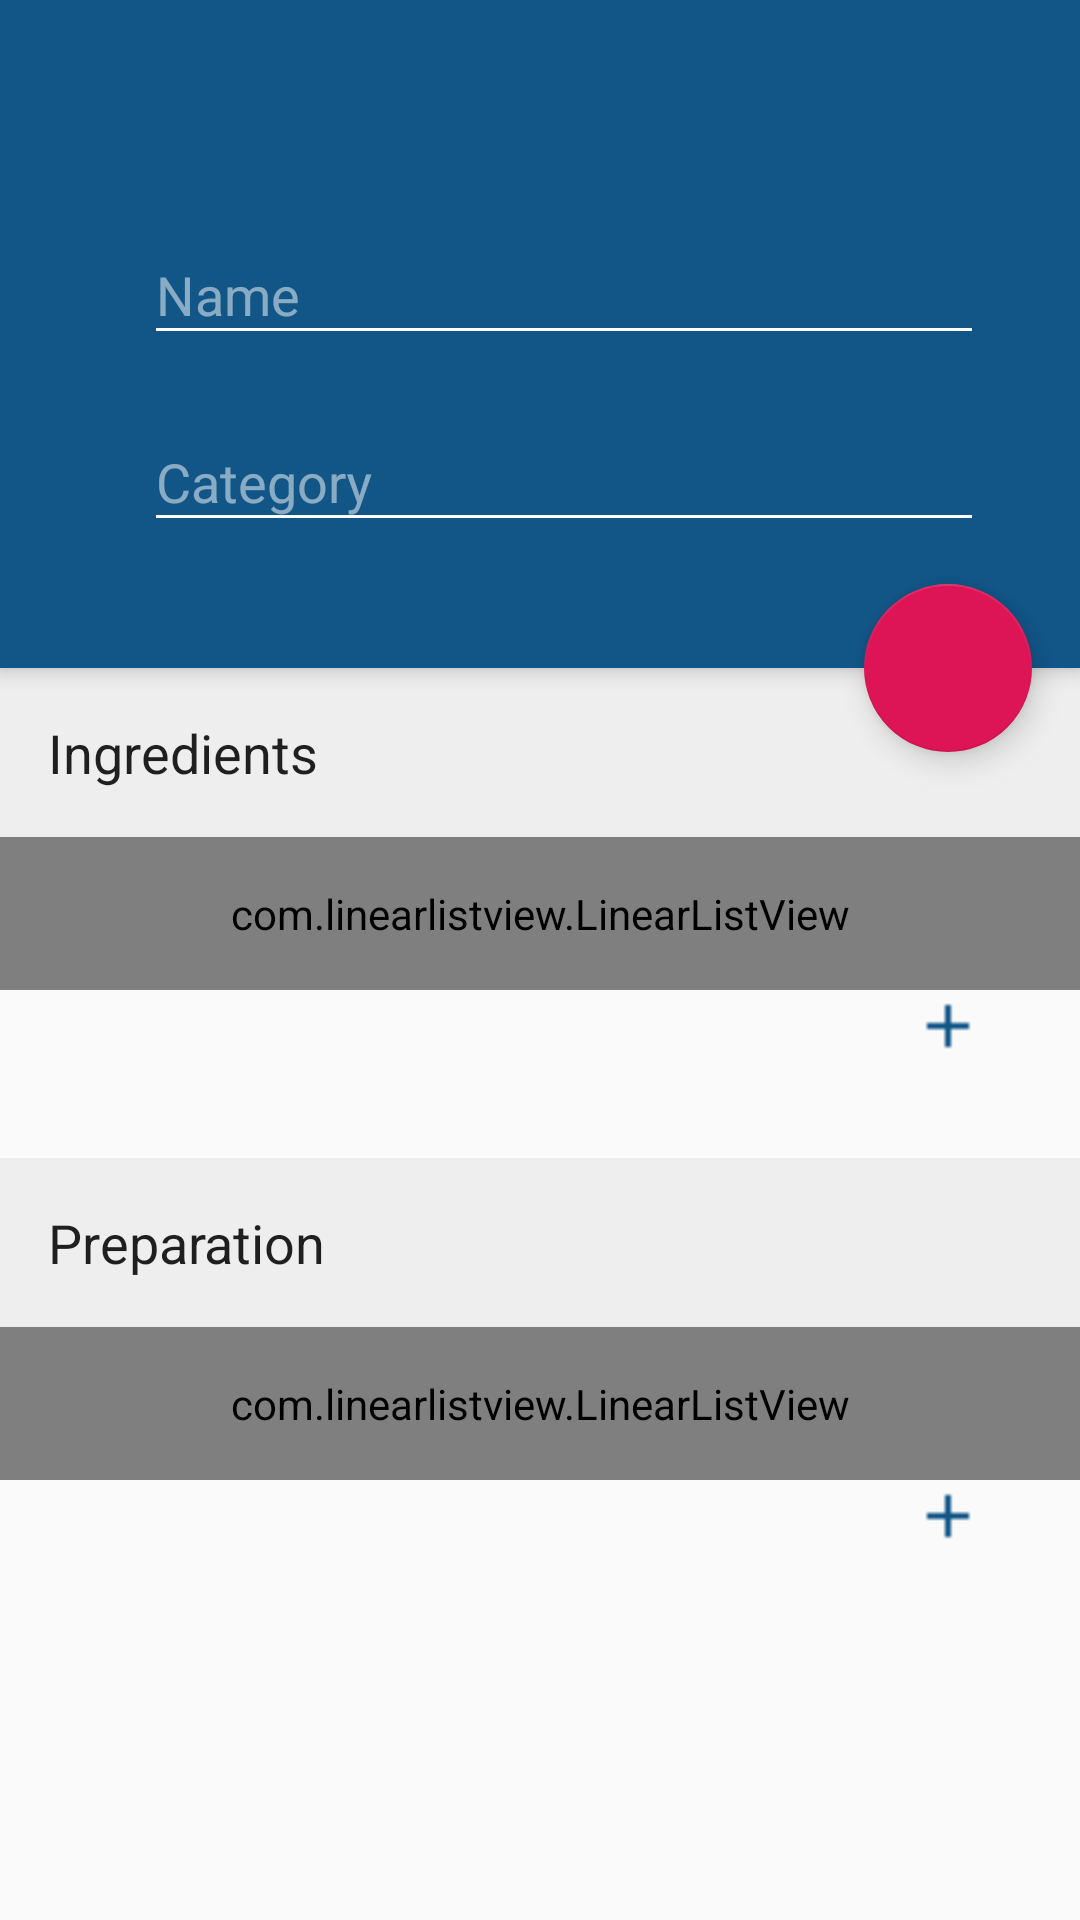

Screen size 1080 × 1920. Icon name, then its center in pixels as point (x, y):
Add ingredient to recipe: point (948, 1026)
Add preparation step to recipe: point (948, 1516)
